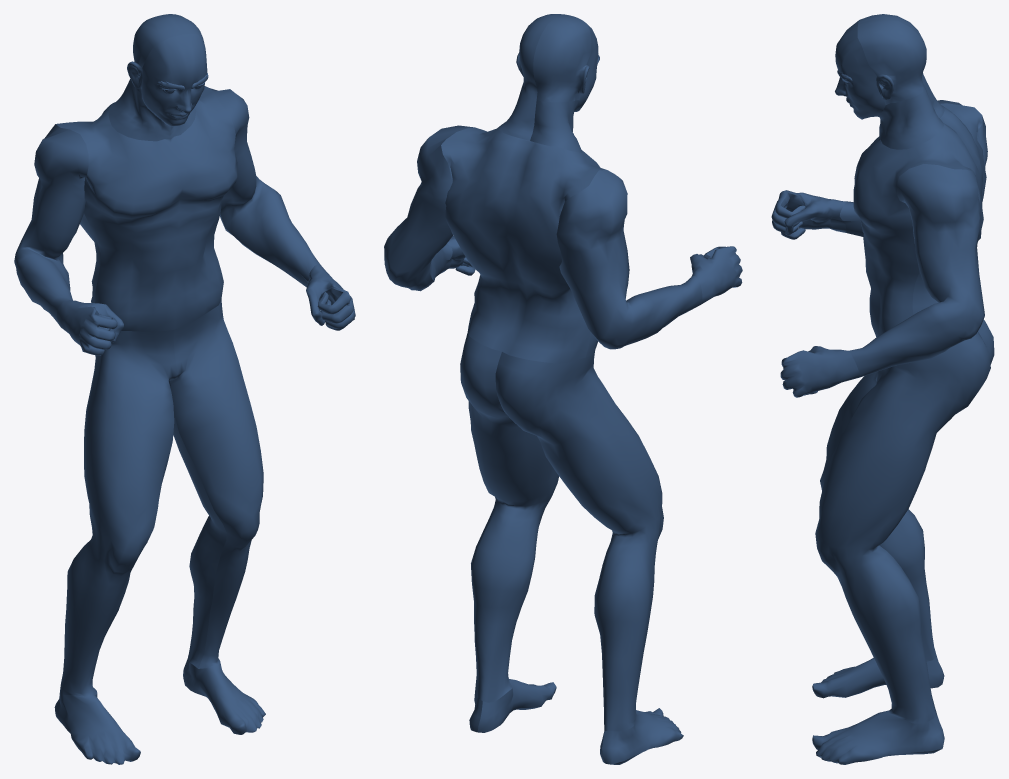
The model's file is danse-homme.glb.
3 renders of one model, left to right at view 1: azimuth 30°, elevation 25°; view 2: azimuth 150°, elevation 25°; view 3: azimuth 270°, elevation 25°, orthographic.
Parts seen in each view (by area): view 1: SuperHero_Male; view 2: SuperHero_Male; view 3: SuperHero_Male.
Boxes of the visible parts, x1=… form: SuperHero_Male: x1=14, y1=14, x2=355, y2=764; SuperHero_Male: x1=384, y1=14, x2=742, y2=764; SuperHero_Male: x1=771, y1=14, x2=994, y2=764.
Bounding box in the file's own units: 0.6979 × 1.7 × 0.481.
